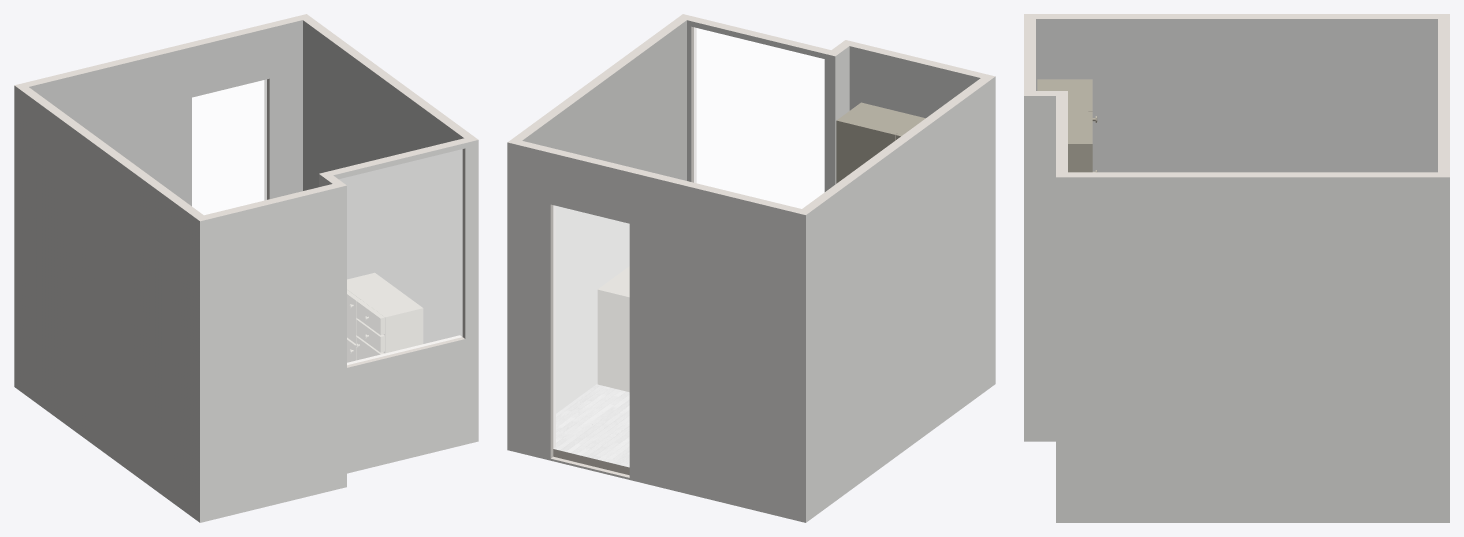
File: FCDT Consultation Room.glb
3 renders of one model, left to right at view 1: azimuth 30°, elevation 25°; view 2: azimuth 150°, elevation 25°; view 3: azimuth 270°, elevation 25°, orthographic. The views are drawn at different scales.
Parts seen in each view (by area): view 1: wall_5, wall_0, wall_12, wall_8, window_0, window_2, wall_2, door_0, door_2, storage_cabinet_mid20, wall_11, wall_9 (+3 smaller); view 2: wall_1, wall_5, wall_12, window_0, window_2, door_0, door_2, wall_6, floor_Dining Room_0, storage_cabinet_tall20, storage_cabinet_mid20, wall_9 (+7 smaller); view 3: wall_3, wall_16, wall_4, storage_cabinet_tall20, wall_13, wall_17, wall_9, wall_11, wall_7.
Part boxes in pixels (<box>): wall_5: <box>14,85,199,522</box>; wall_0: <box>200,185,346,522</box>; wall_12: <box>303,20,463,343</box>; wall_8: <box>29,20,302,206</box>; window_0: <box>339,149,462,364</box>; window_2: <box>339,149,462,364</box>; wall_2: <box>333,140,478,473</box>; door_0: <box>192,79,266,214</box>; door_2: <box>192,80,266,214</box>; storage_cabinet_mid20: <box>347,273,422,362</box>; wall_11: <box>319,138,477,367</box>; wall_9: <box>15,14,306,199</box>; wall_1: <box>507,142,805,522</box>; wall_5: <box>806,76,995,522</box>; wall_12: <box>522,20,686,413</box>; window_0: <box>694,27,824,208</box>; window_2: <box>694,27,824,208</box>; door_0: <box>553,205,629,466</box>; door_2: <box>553,206,629,466</box>; wall_6: <box>849,46,980,118</box>; floor_Dining Room_0: <box>554,384,629,467</box>; storage_cabinet_tall20: <box>836,102,925,183</box>; storage_cabinet_mid20: <box>598,266,629,391</box>; wall_9: <box>508,141,805,477</box>; wall_3: <box>1056,177,1449,522</box>; wall_16: <box>1036,19,1437,172</box>; wall_4: <box>1024,96,1055,441</box>; storage_cabinet_tall20: <box>1037,79,1097,172</box>; wall_13: <box>1057,172,1448,177</box>; wall_17: <box>1025,14,1448,18</box>; wall_9: <box>1438,14,1449,177</box>; wall_11: <box>1056,91,1067,177</box>; wall_7: <box>1024,14,1035,95</box>.
Bounding box in the file's own units: 3.22 × 3.17 × 3.54.
